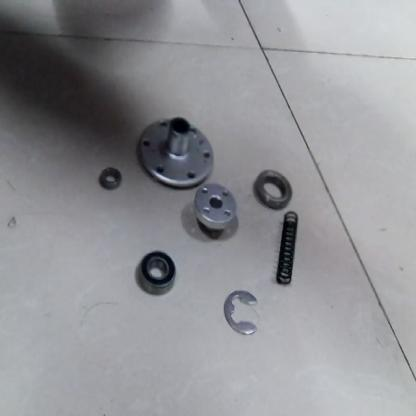FOD: (136, 115, 214, 190), (133, 244, 180, 296), (193, 180, 237, 235), (272, 212, 302, 287), (221, 286, 262, 337), (253, 167, 294, 211), (98, 164, 122, 190)
